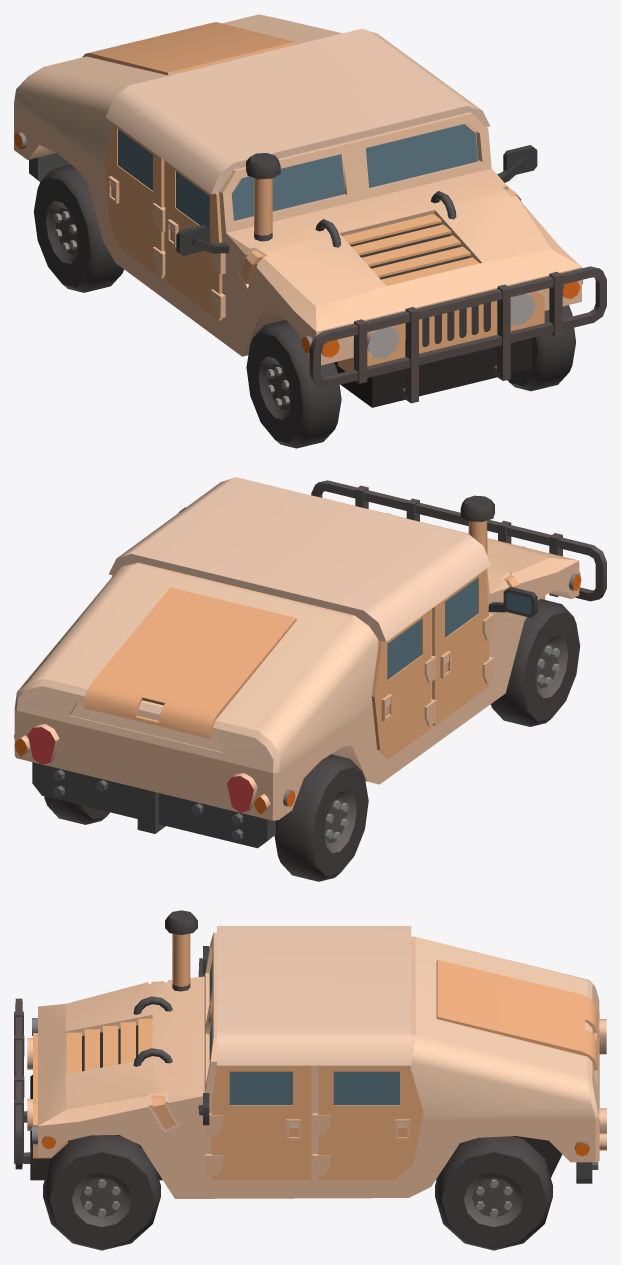
File: Hummer_003.glb
The picture shows the model from 3 angles, top to bottom: view 1: azimuth 30°, elevation 25°; view 2: azimuth 150°, elevation 25°; view 3: azimuth 270°, elevation 25°; orthographic projection. The views are drawn at different scales.
Visible parts, largest first — view 1: Hummer_003, Wheel_001_R.001, Wheel_001_R, Wheel_001_L.001; view 2: Hummer_003, Wheel_001_R, Wheel_001_R.001, Wheel_001_L; view 3: Hummer_003, Wheel_001_L.001, Wheel_001_L.
Part boxes in pixels (x1,y1,x2,y2): Hummer_003: (14,14,606,407); Wheel_001_R.001: (246,320,341,448); Wheel_001_R: (33,164,123,292); Wheel_001_L.001: (507,305,575,391); Hummer_003: (14,477,606,848); Wheel_001_R: (274,754,368,881); Wheel_001_R.001: (490,599,580,726); Wheel_001_L: (44,796,109,824); Hummer_003: (14,910,606,1198); Wheel_001_L.001: (43,1135,160,1250); Wheel_001_L: (435,1136,552,1250).
Bounding box in the file's own units: 2.79 × 1.85 × 4.35.
1 material, 1 textured.
